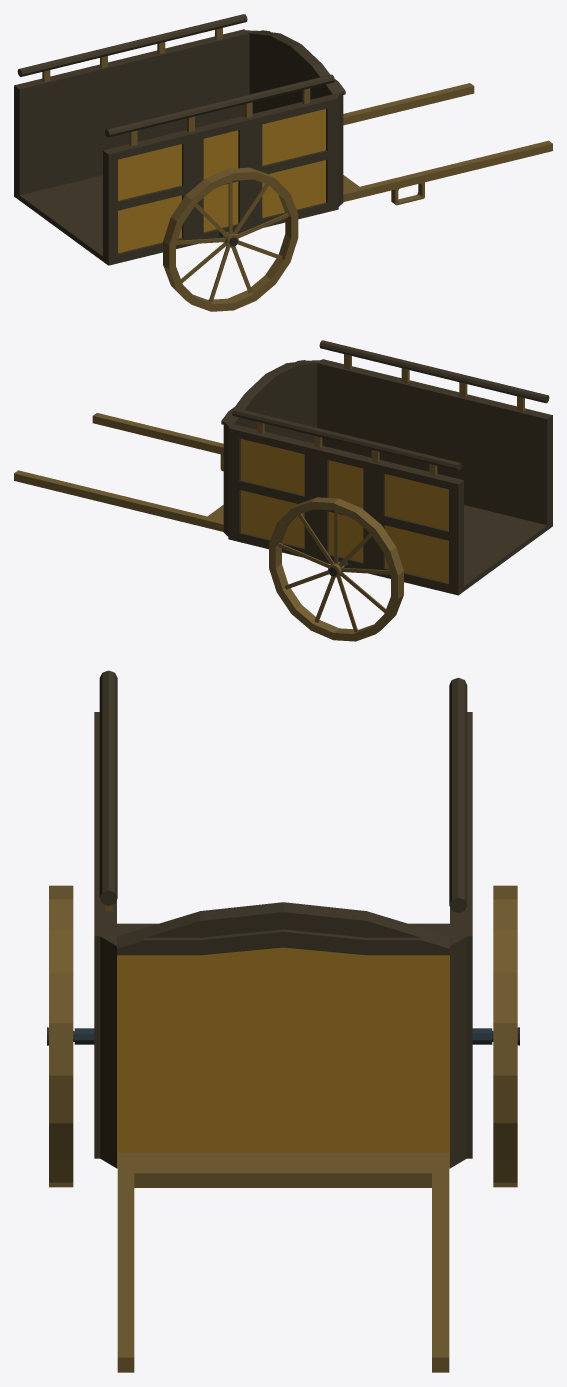
The model's file is Carroza.fbx.
The picture shows the model from 3 angles, top to bottom: view 1: azimuth 30°, elevation 25°; view 2: azimuth 150°, elevation 25°; view 3: azimuth 270°, elevation 25°; orthographic projection. The views are drawn at different scales.
Visible parts, largest first — view 1: carroza; view 2: carroza; view 3: carroza.
Boxes of the visible parts, x1,y1,x2,y2 form: carroza: (14,14,552,311); carroza: (14,340,552,641); carroza: (47,670,519,1372).
Bounding box in the file's own units: 1128 × 472 × 513.
